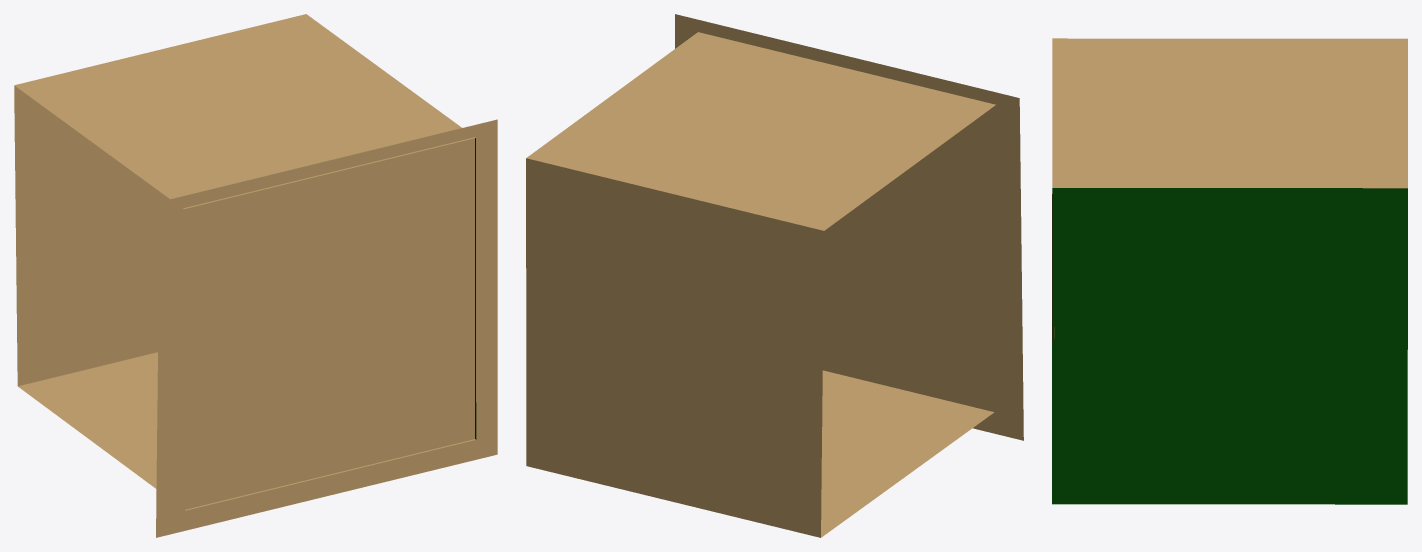
3 renders of one model, left to right at view 1: azimuth 30°, elevation 25°; view 2: azimuth 150°, elevation 25°; view 3: azimuth 270°, elevation 25°, orthographic. The views are drawn at different scales.
Parts seen in each view (by area): view 1: front_wall, ceiling, back_wall, floor; view 2: back_wall, front_wall, ceiling, floor; view 3: right_wall, ceiling.
Part boxes in pixels (box(x1,y1,x2,y2)): front_wall: box(156, 119, 497, 537); ceiling: box(14, 14, 475, 208); back_wall: box(14, 85, 169, 386); floor: box(18, 352, 475, 510); back_wall: box(526, 158, 824, 537); front_wall: box(675, 14, 1023, 440); ceiling: box(526, 32, 995, 230); floor: box(821, 370, 994, 537); right_wall: box(1052, 188, 1407, 504); ceiling: box(1052, 38, 1407, 188).
Bounding box in the file's own units: 6.51 × 6.09 × 5.6.
